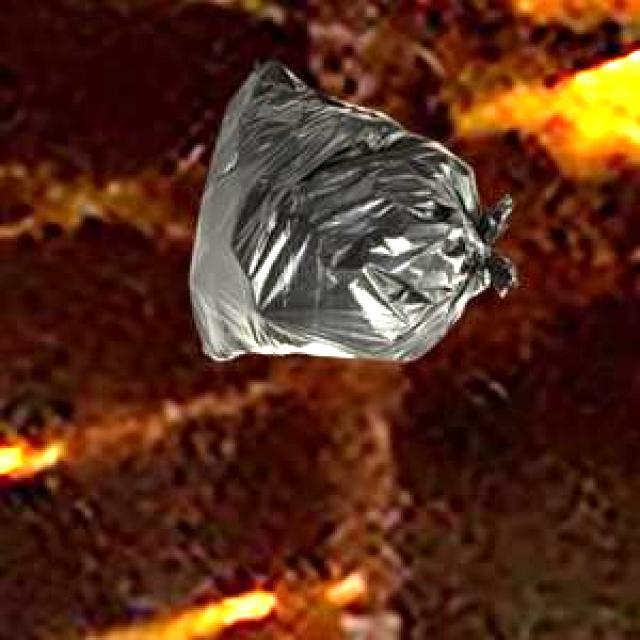Garbage_Bag: (187, 56, 516, 358)
